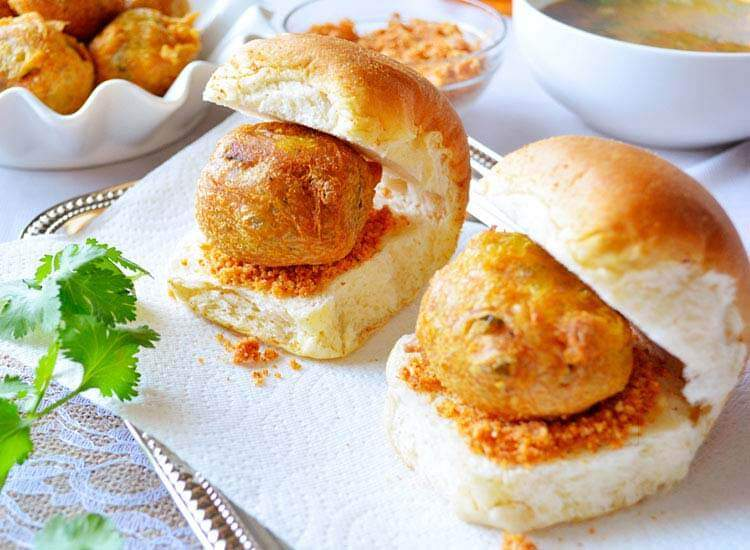vada pav: (496, 154, 680, 505), (195, 33, 408, 324)
